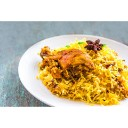briyani: (42, 43, 126, 104)
